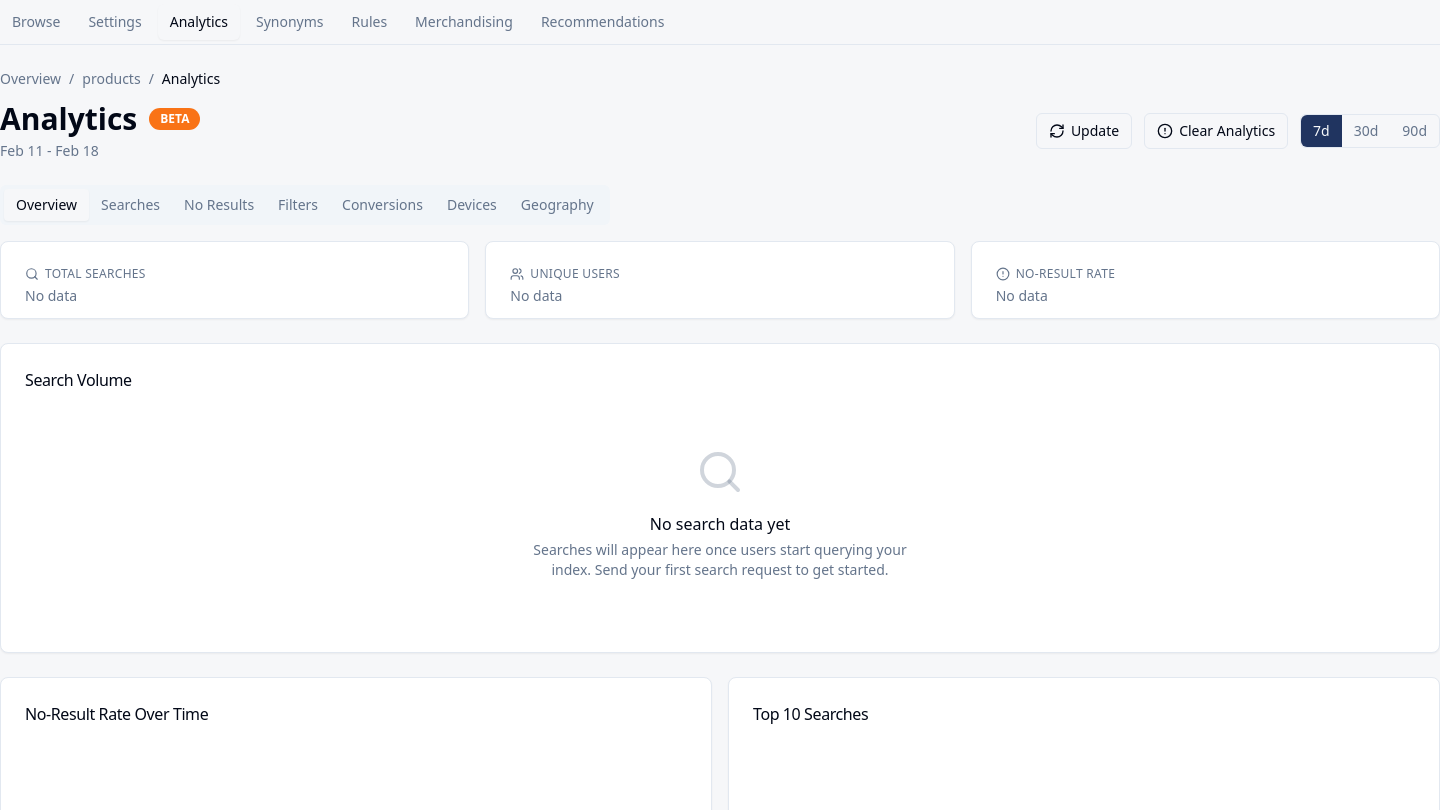
Scenario: Analytics › wires the extracted overview, conversions, and geography tabs into the page shell
Expected: the element with test id "search-volume-chart" is shown, left=0, top=343, right=1439, bottom=653
Click the tab with test id "tab-conversions".
click(382, 205)  # box left=330, top=189, right=435, bottom=221
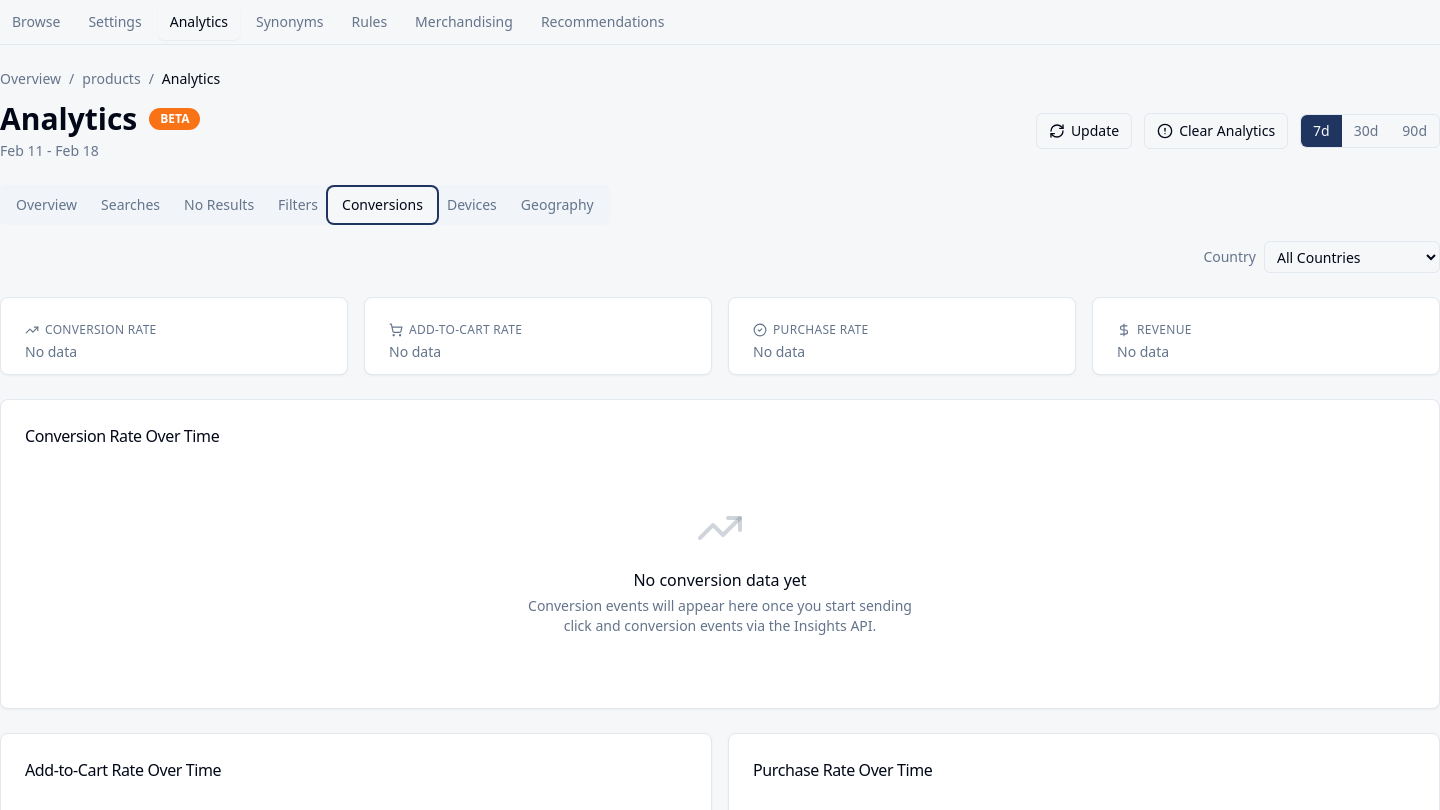
Result: the dropdown with test id "conversion-country-filter" is shown at left=1264, top=241, right=1439, bottom=273
Click the tab with test id "tab-geography".
click(557, 205)  # box left=509, top=189, right=606, bottom=221
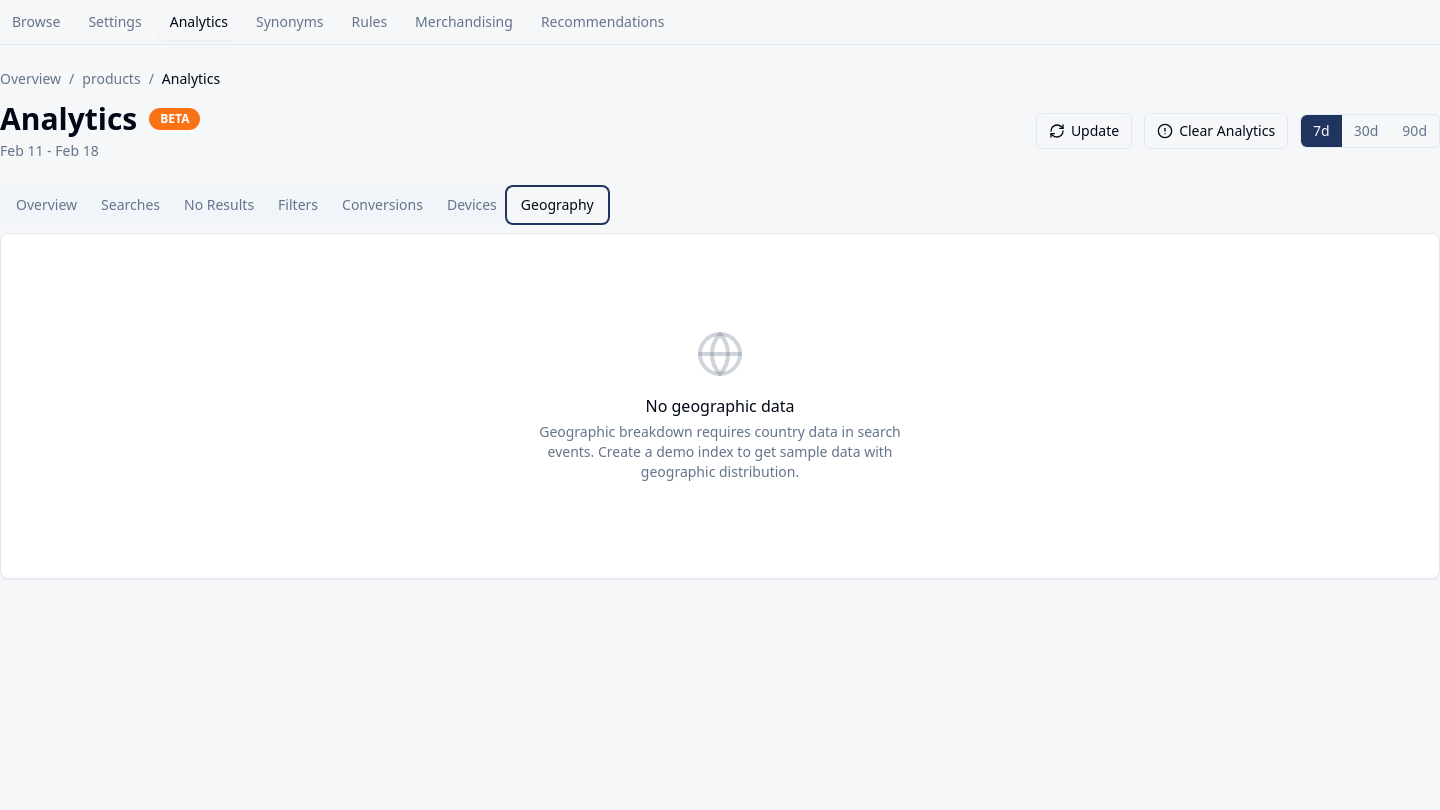
Result: the heading "No geographic data" is shown at left=646, top=395, right=794, bottom=417
